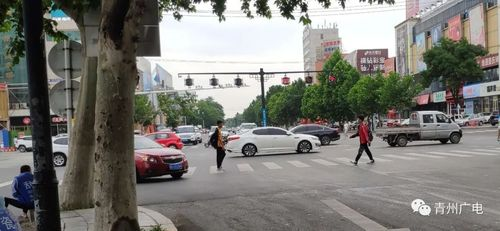car: (224, 127, 322, 157), (135, 134, 189, 183), (288, 124, 340, 145), (40, 135, 73, 167), (143, 132, 184, 149), (175, 125, 202, 145), (468, 112, 495, 125), (14, 135, 34, 152), (487, 112, 500, 125)
person: (5, 164, 35, 226), (349, 118, 375, 165), (209, 122, 230, 172)
sign: (280, 75, 292, 87), (304, 75, 315, 85)
truck: (375, 110, 464, 147)
